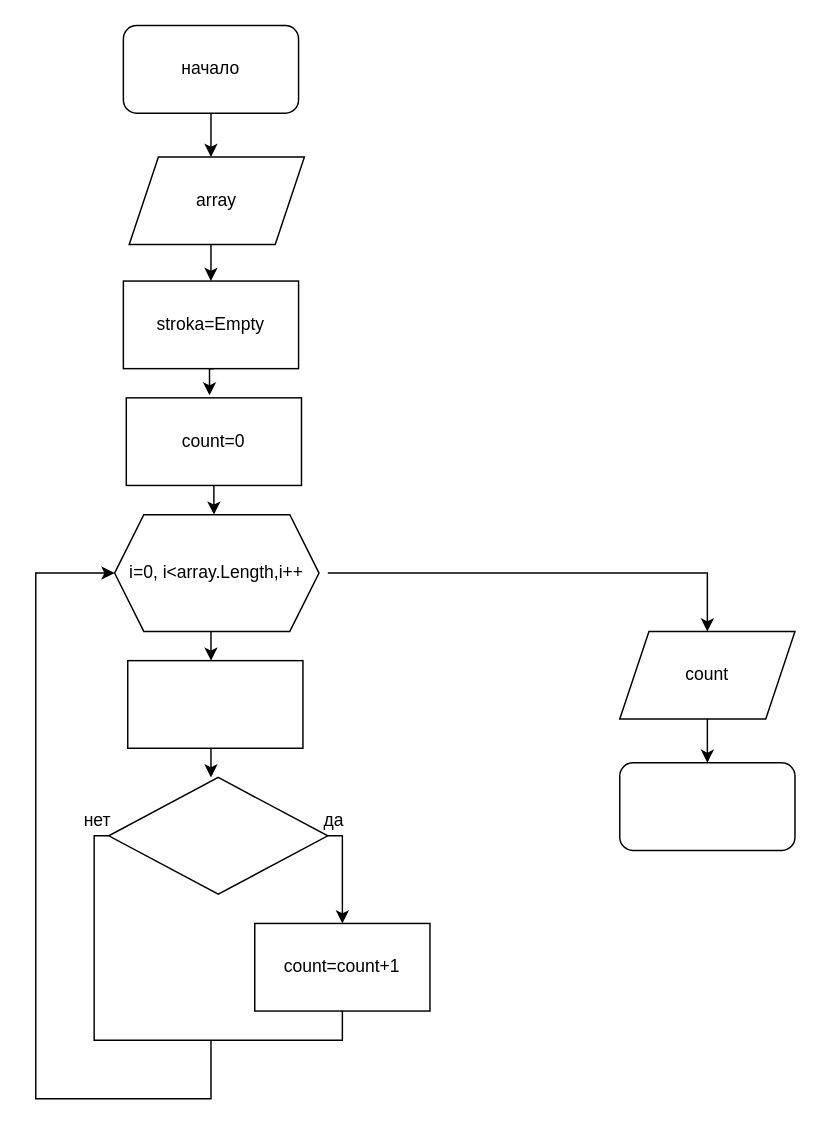
This 821x1136 diagram has some shape labels left out. Each missing label, with the box of its shape:
if stroka.Length<=3: (107, 776, 328, 894)
stroka=array[i]: (126, 659, 303, 748)
конец: (618, 761, 795, 850)
